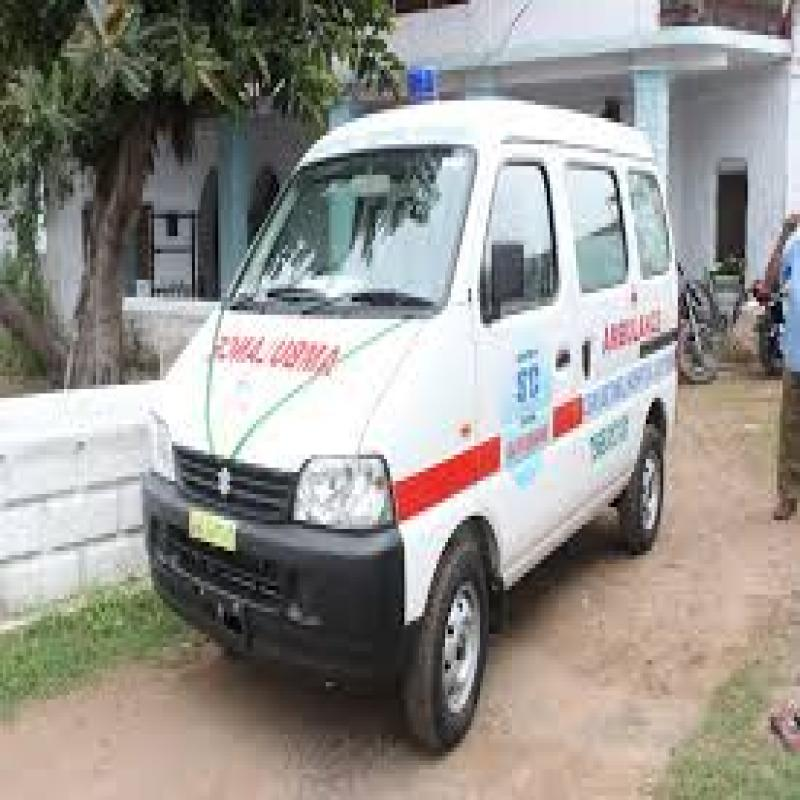ambulance: (150, 76, 676, 718)
